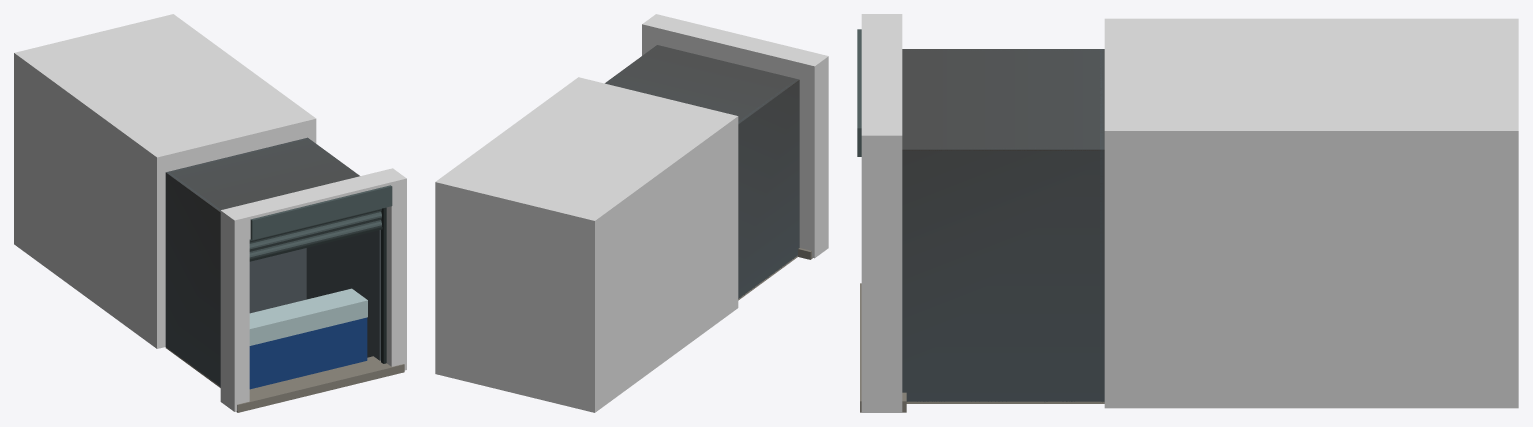
File: tret_sua_dt_32.glb
3 views of the same model, side by side, from view 1: azimuth 30°, elevation 25°; view 2: azimuth 150°, elevation 25°; view 3: azimuth 270°, elevation 25° (orthographic). The views are drawn at different scales.
Visible parts, largest first — view 1: tret_sua_dt_32; view 2: tret_sua_dt_32; view 3: tret_sua_dt_32.
Boxes of the visible parts, x1=… form: tret_sua_dt_32: x1=14, y1=14, x2=406, y2=412; tret_sua_dt_32: x1=435, y1=14, x2=828, y2=412; tret_sua_dt_32: x1=857, y1=14, x2=1518, y2=412.
Size of the model in its own units: 3.2 by 3.42 by 7.35.
